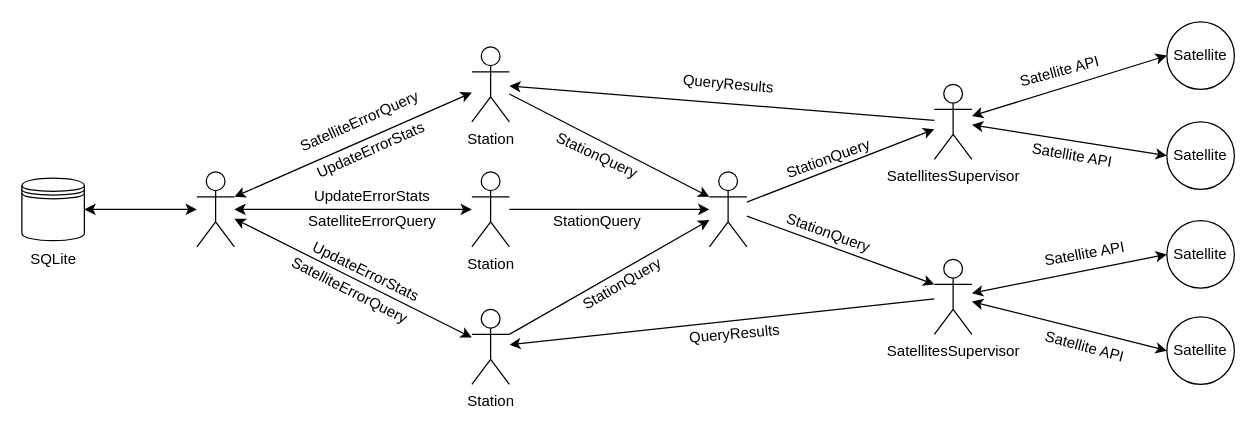
Some shapes in this 1256 by 433 pixel diagram are drawn without their labels. The shapes that lost their labels are listed below. From the top down, each one's centre as x and y in pixels, then its label:
At (x=215, y=209): "Database".
At (x=727, y=209): "Dispatcher".
